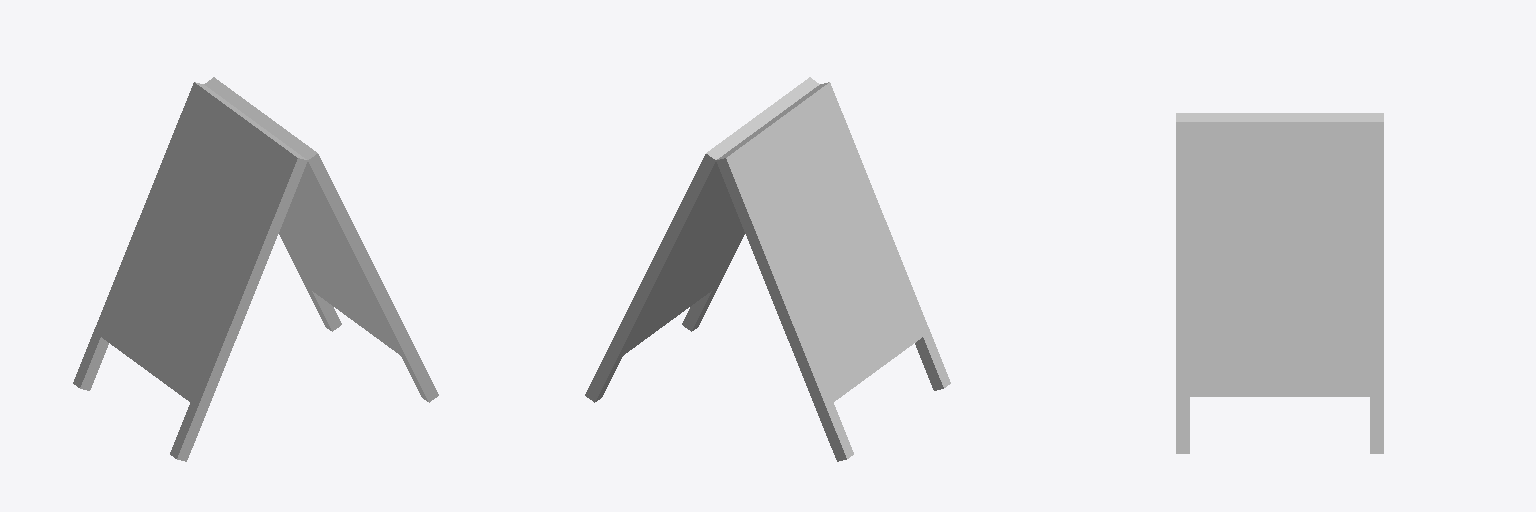
Rendered from CidadeGrande_Letreiro_V1.obj.
The picture shows the model from 3 angles: view 1: azimuth 30°, elevation 25°; view 2: azimuth 150°, elevation 25°; view 3: azimuth 270°, elevation 25°; orthographic projection.
Visible parts, largest first — view 1: letreiro; view 2: letreiro; view 3: letreiro.
Part boxes in pixels (left/top/right/bottom): letreiro: left=73, top=77, right=438, bottom=461; letreiro: left=585, top=77, right=950, bottom=461; letreiro: left=1176, top=113, right=1383, bottom=453.
Size of the model in its own units: 10.37 by 10.46 by 7.12.